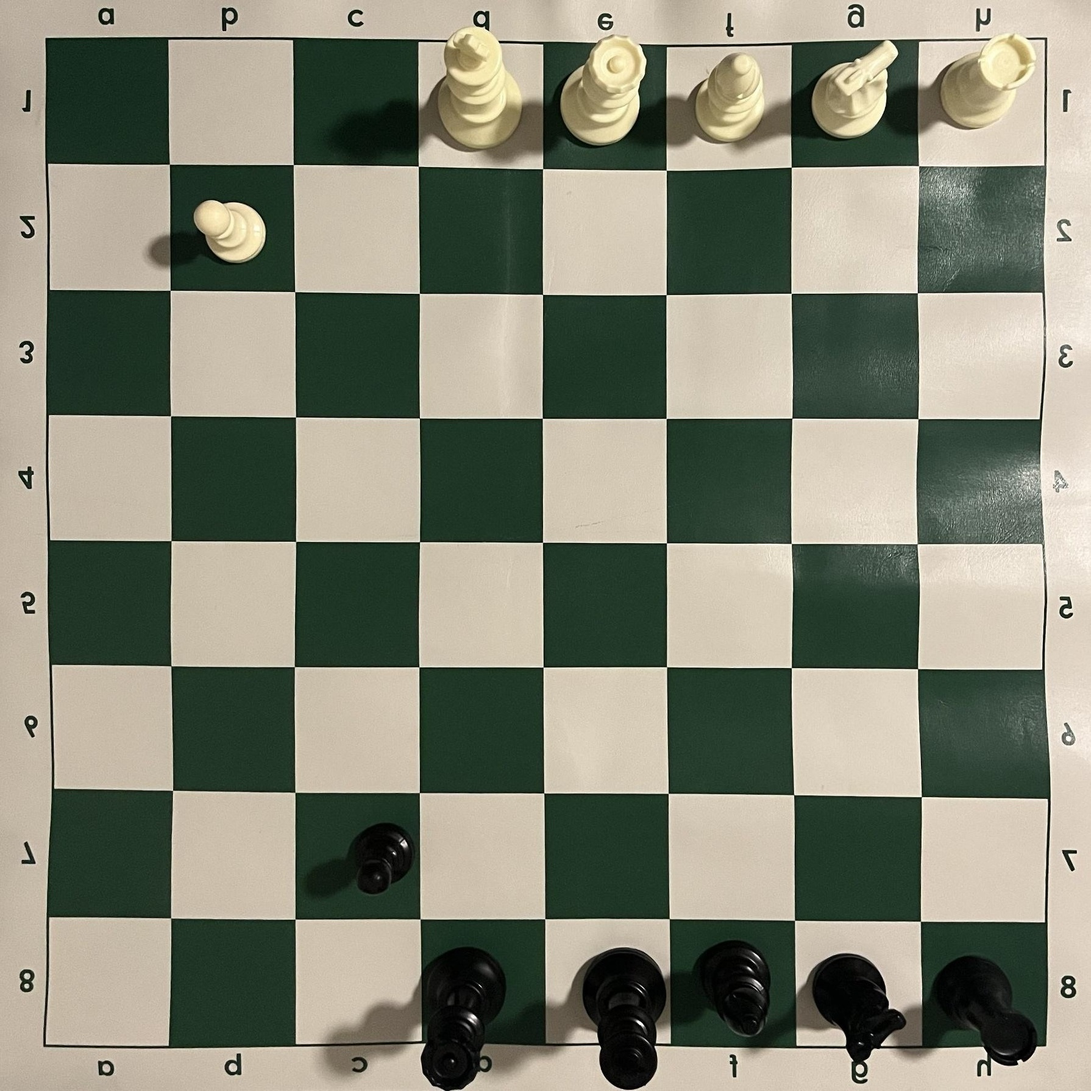black_bishop: (697, 939, 773, 1039)
black_king: (581, 947, 668, 1090)
black_knight: (811, 953, 907, 1062)
black_pawn: (350, 822, 414, 895)
black_queen: (421, 947, 506, 1090)
black_rook: (931, 955, 1037, 1067)
white_bishop: (694, 52, 766, 143)
white_king: (438, 26, 523, 150)
white_knight: (811, 39, 900, 140)
white_pawn: (193, 199, 267, 265)
white_queen: (558, 34, 649, 147)
white_rook: (940, 34, 1036, 130)
